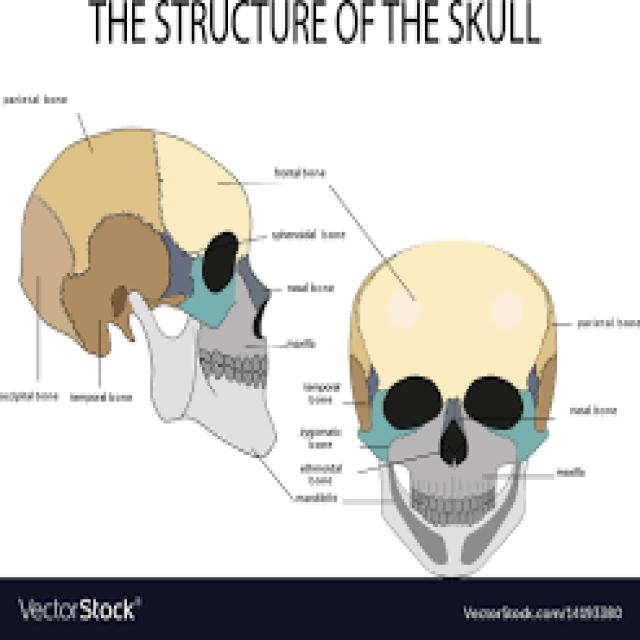skull: (13, 97, 282, 471)
